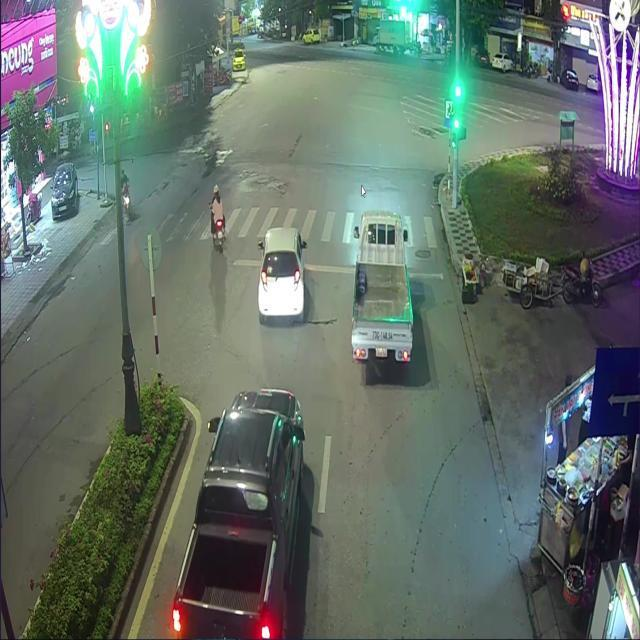car: (170, 388, 304, 637), (349, 213, 413, 369), (254, 222, 310, 329)
green_light: (452, 77, 461, 130)
stop_line: (228, 256, 440, 277)
